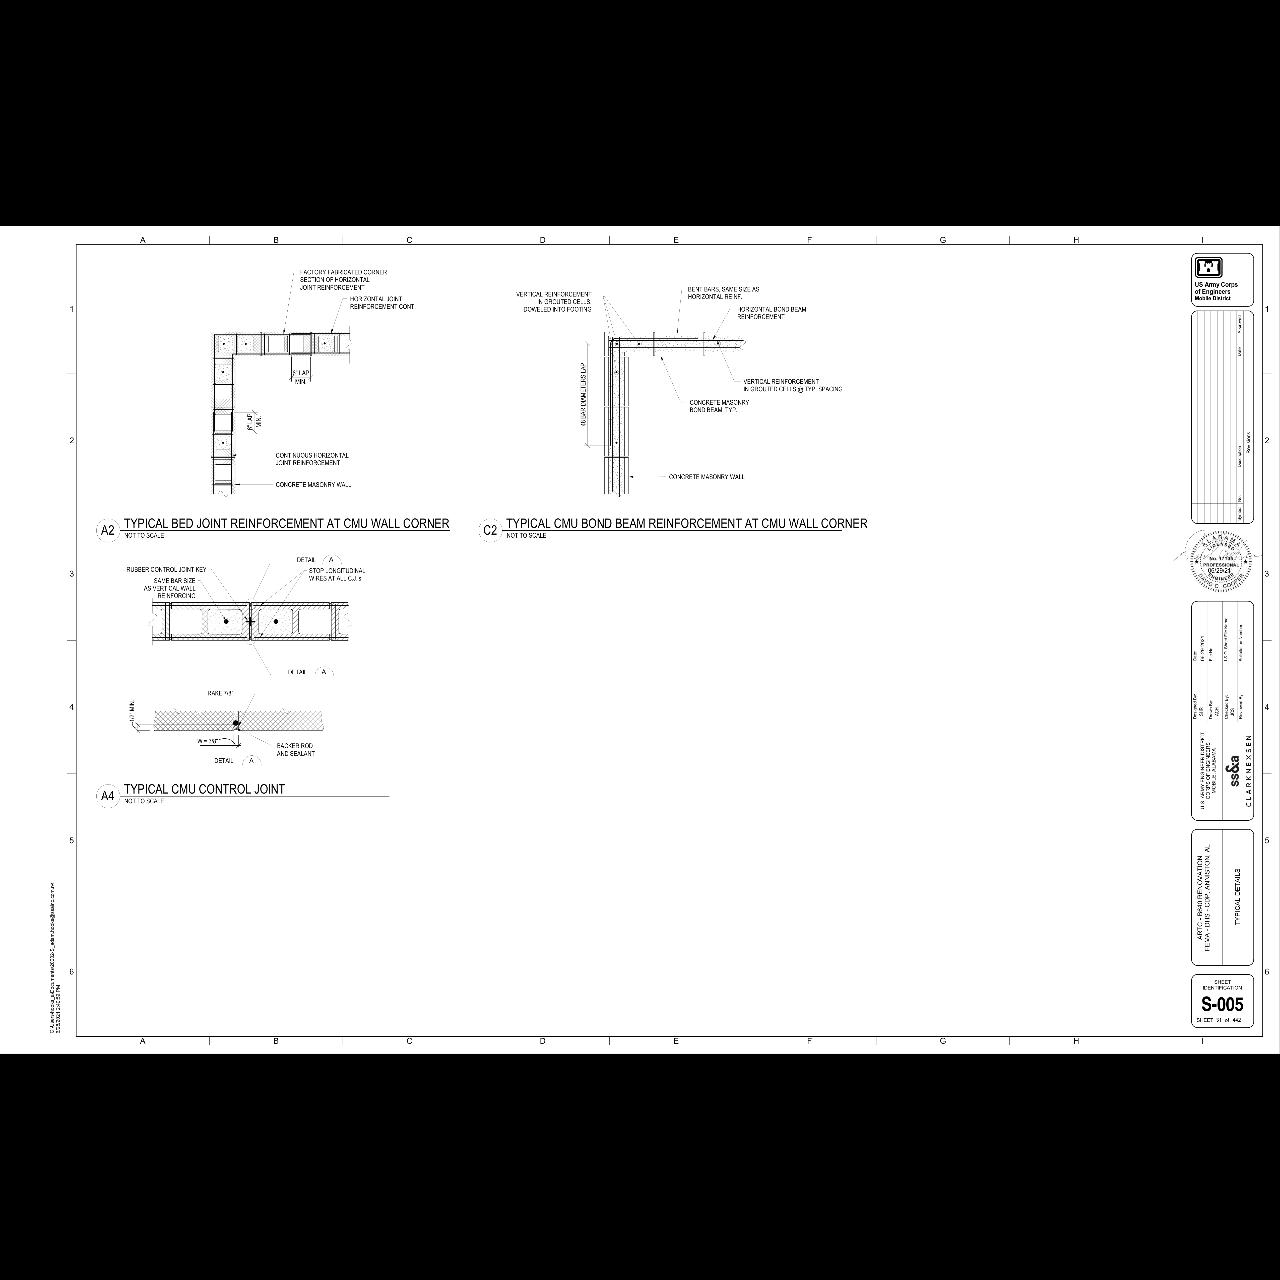title: (477, 512, 873, 545), (93, 511, 455, 545), (94, 776, 399, 810)
